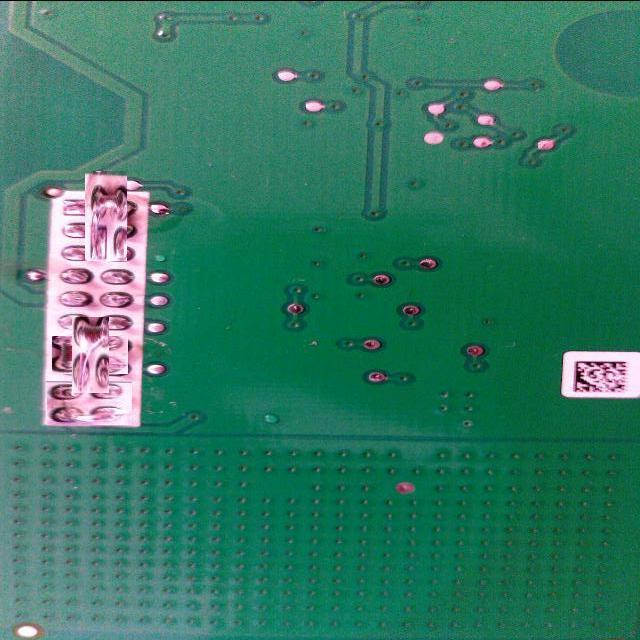Short_circuit: (73, 182, 140, 249), (46, 382, 132, 426), (61, 326, 119, 384)
